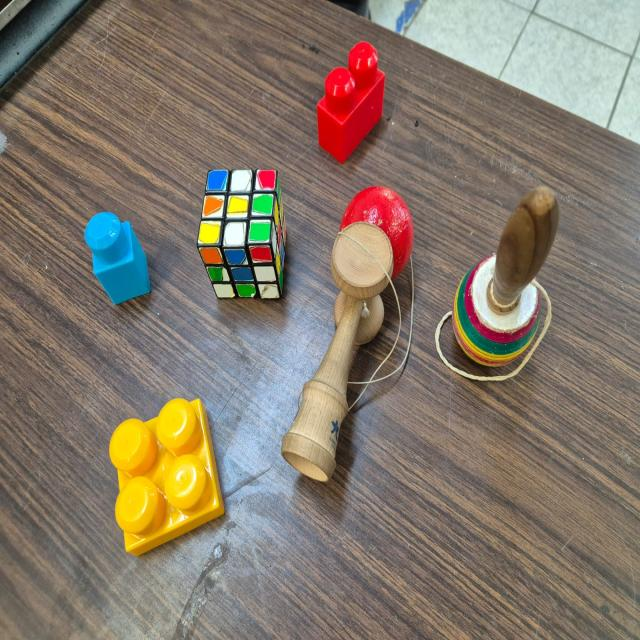balero: (431, 184, 562, 385)
balero ball: (281, 185, 417, 485)
lego 2: (319, 39, 386, 164)
lego 4: (106, 394, 226, 563)
lego_1: (84, 210, 151, 304)
rubick: (195, 168, 285, 302)
